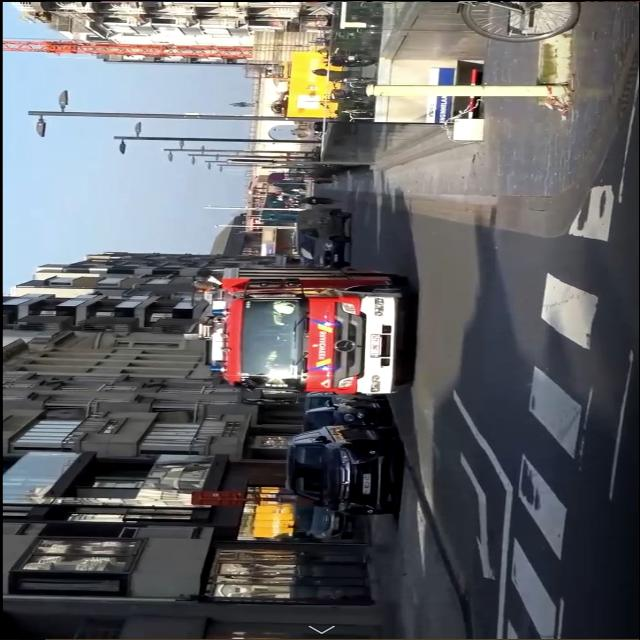emergency: (188, 255, 432, 398)
